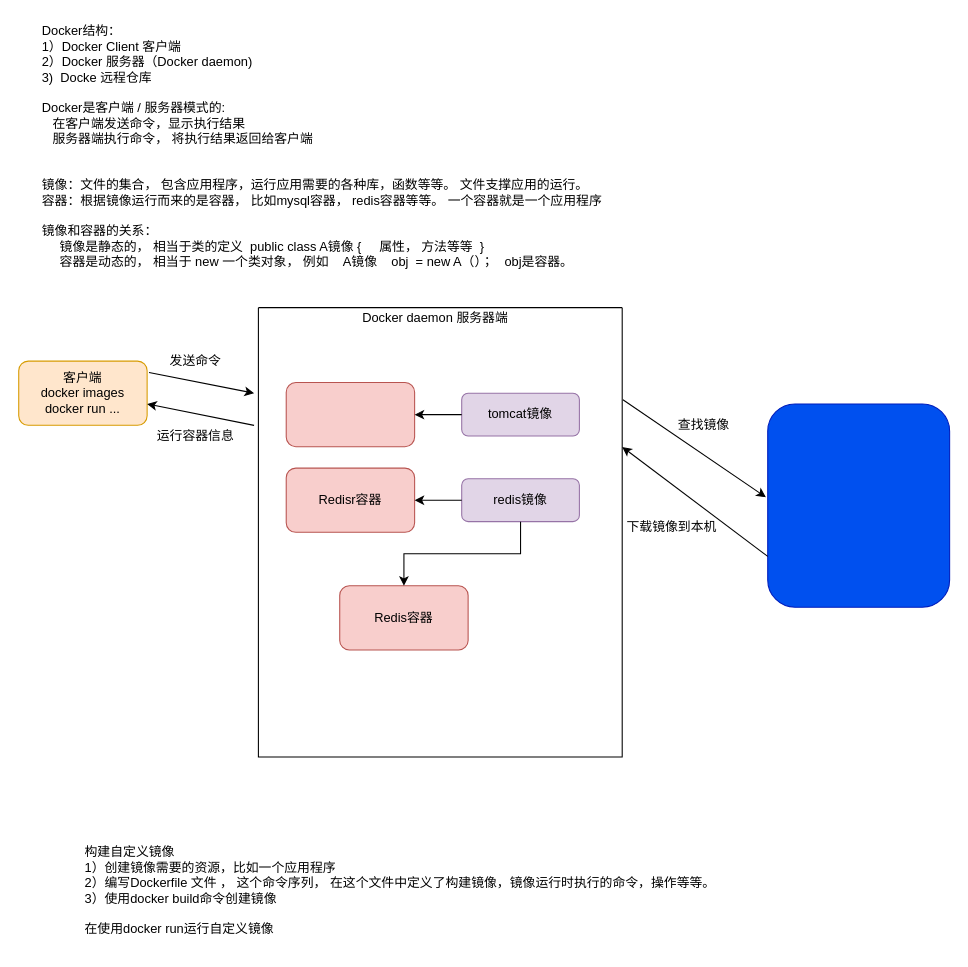
The diagram is 968 pixels wide and 967 high, and some of its shapes have lost their labels. Each missing label, with the centre of its shape:
"tomcat容器" goes at point (350, 414).
"远程镜像仓库 http://hub.docker.com" goes at point (858, 505).
